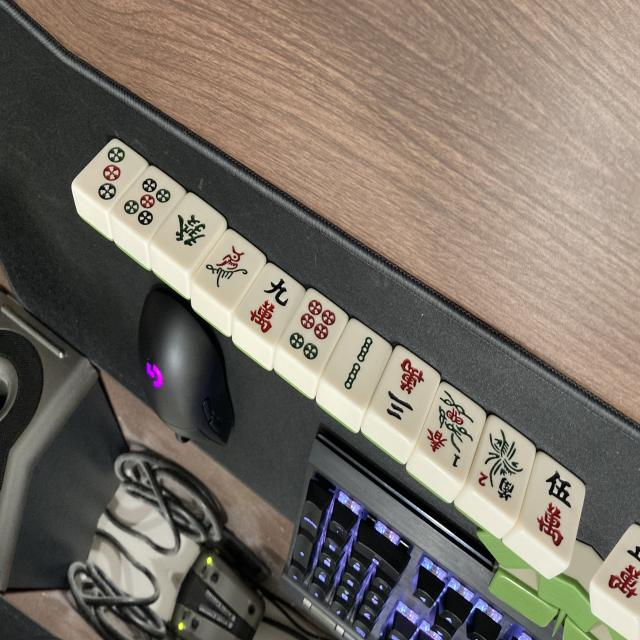f2: (465, 420, 539, 517)
fa: (157, 195, 224, 268)
ff1: (413, 386, 489, 476)
m3: (366, 350, 441, 438)
m5: (515, 457, 591, 563)
m9: (238, 266, 306, 344)
s1: (196, 232, 262, 305)
s2: (323, 321, 394, 403)
t3: (76, 138, 144, 213)
t5: (116, 167, 180, 238)
t6: (278, 292, 348, 371)
